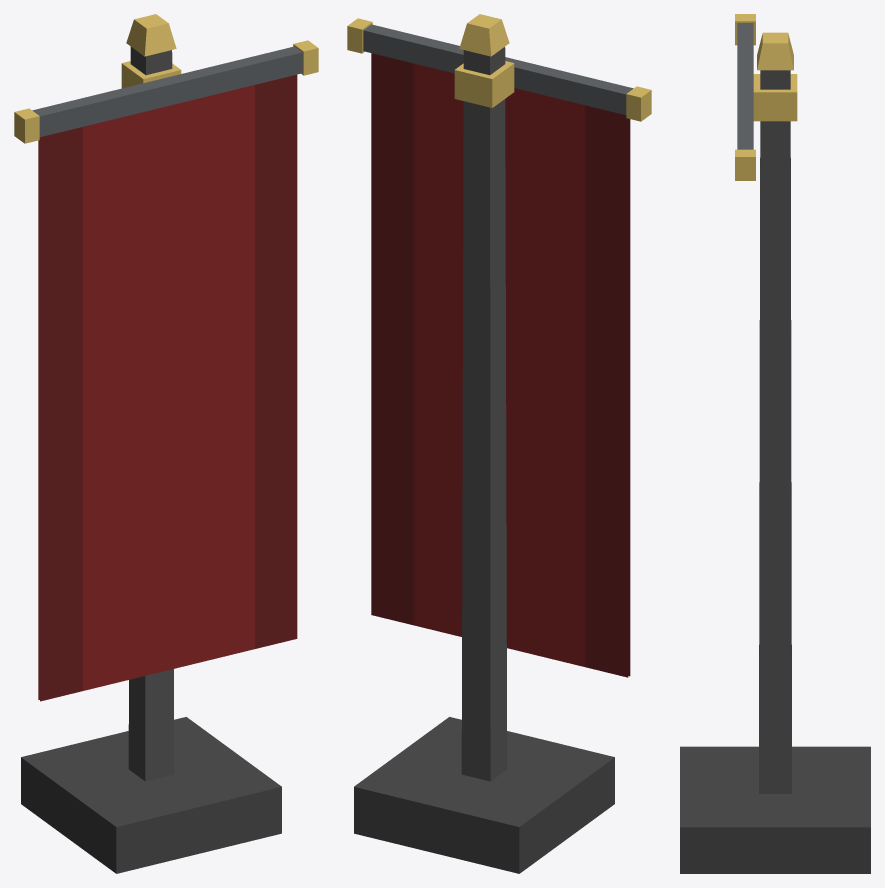
Rendered from Flag Stand 01.fbx.
3 renders of one model, left to right at view 1: azimuth 30°, elevation 25°; view 2: azimuth 150°, elevation 25°; view 3: azimuth 270°, elevation 25°, orthographic.
Visible parts, largest first — view 1: Flag_Stand_01; view 2: Flag_Stand_01; view 3: Flag_Stand_01.
Part boxes in pixels (box(x1,y1,x2,y2)): Flag_Stand_01: box(14, 14, 318, 873); Flag_Stand_01: box(347, 14, 651, 873); Flag_Stand_01: box(680, 14, 870, 873).
Size of the model in its own units: 88.68 by 230 by 50.
